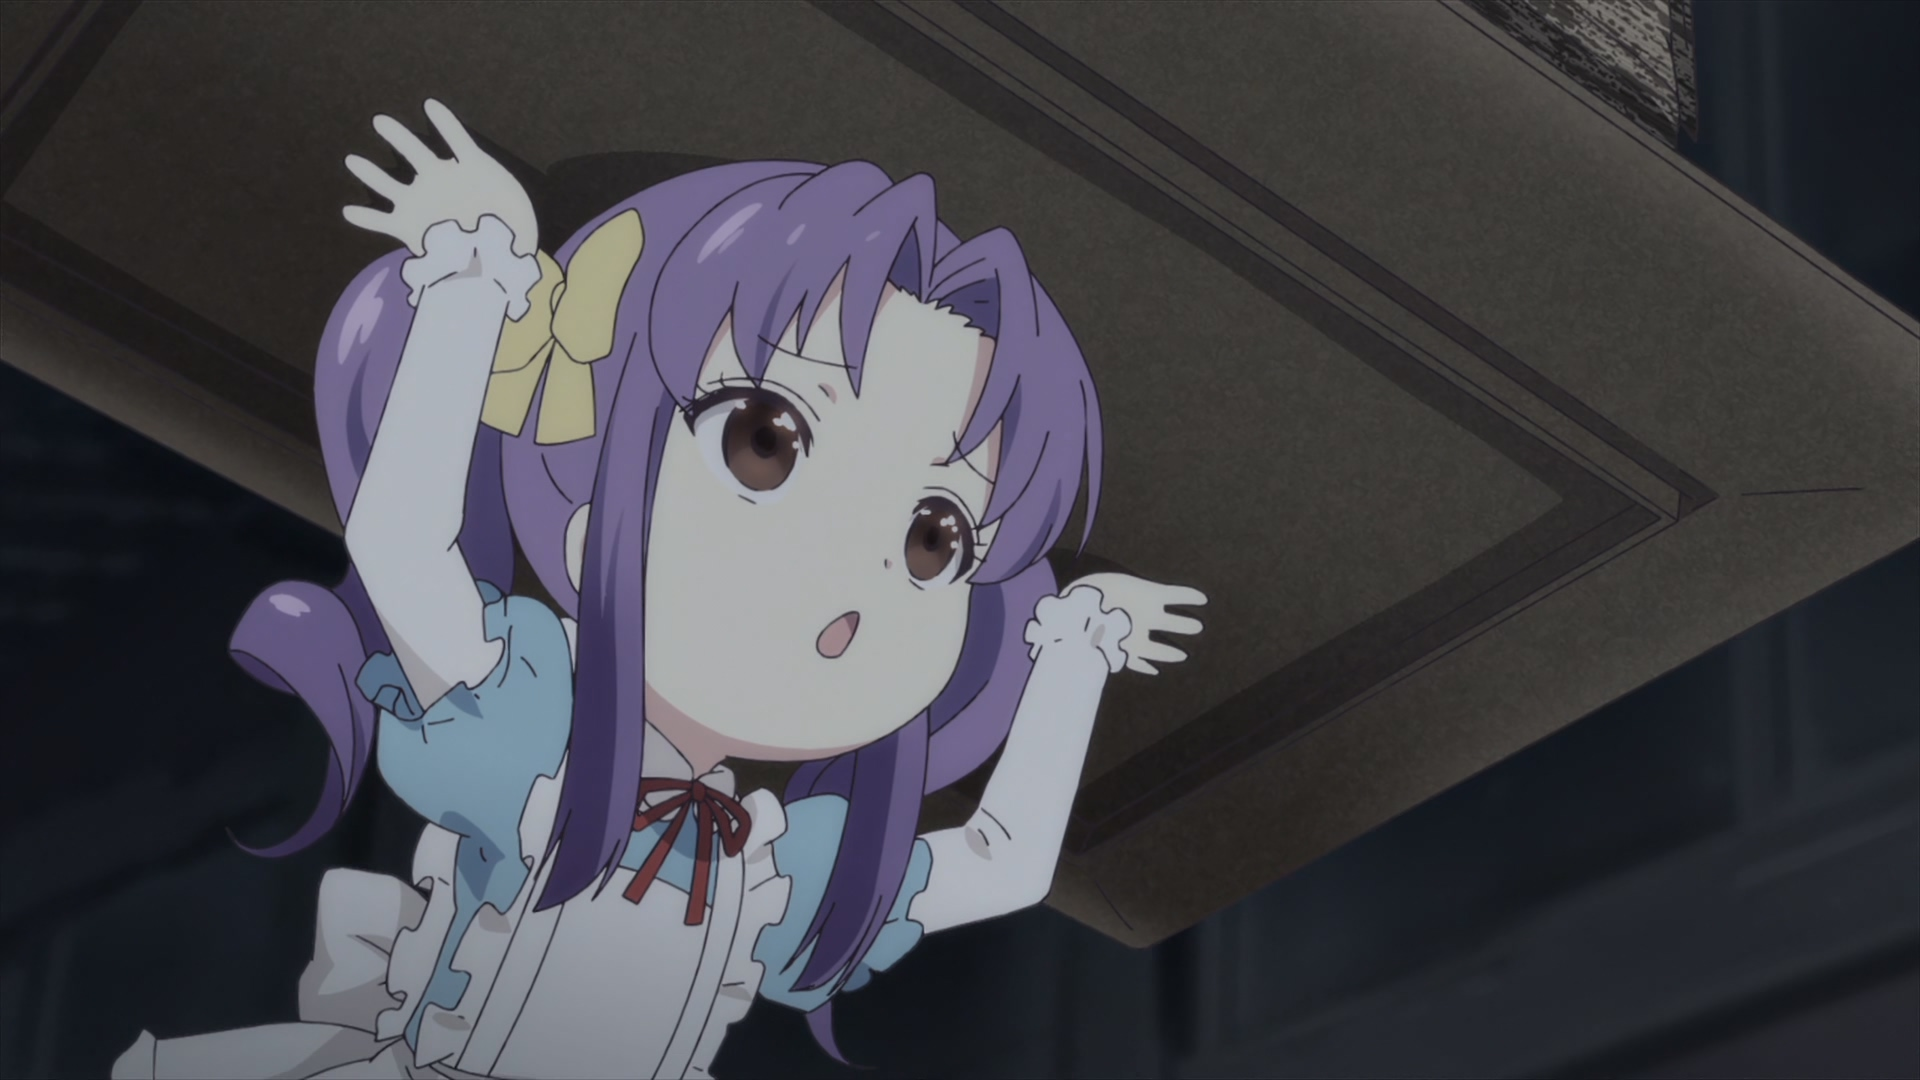阿菊: (113, 99, 1207, 1080)
